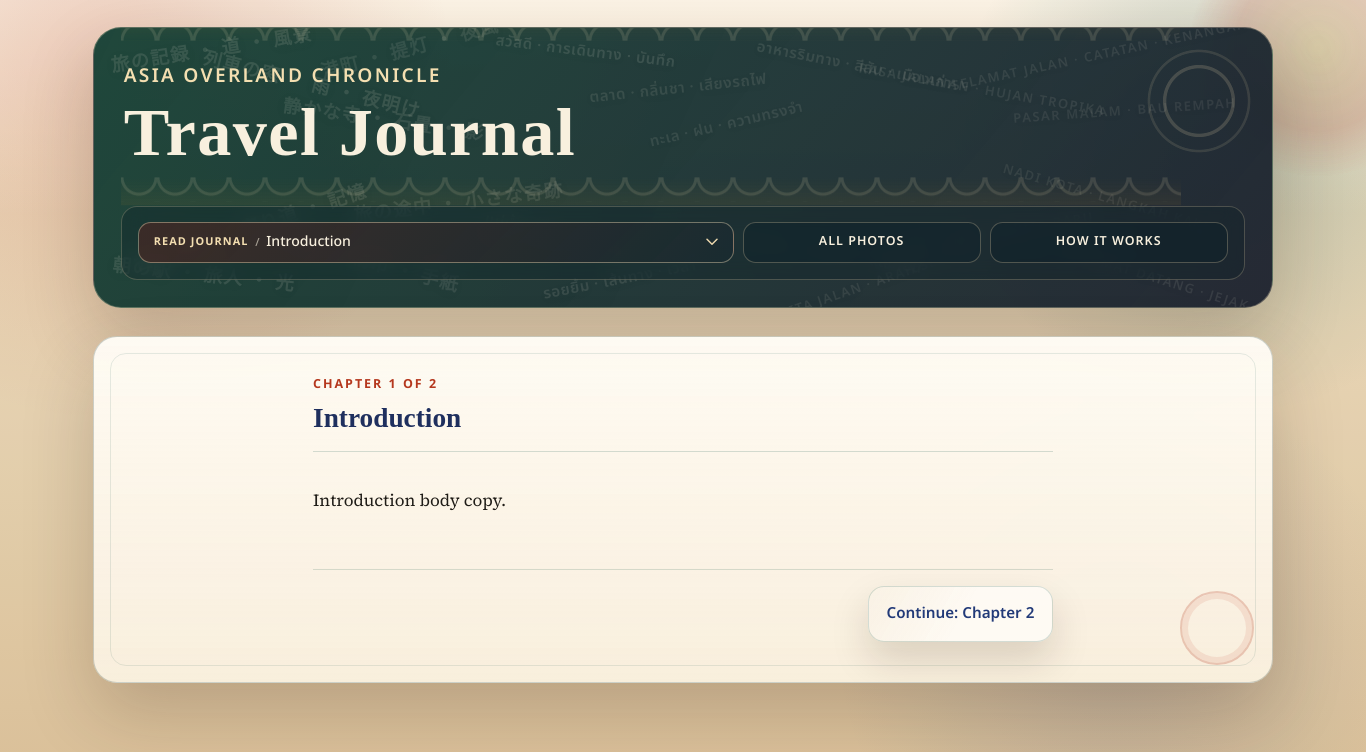
App › navigates to the about page when the hero button is clicked
Expected: the text "Chapter 1 of 2" is shown, [313,375,438,394]
What coordinates should you click on to do the following:
click the button "How It Works"
I would click on:
 (1109, 242)
Its box is [990,222,1228,263].
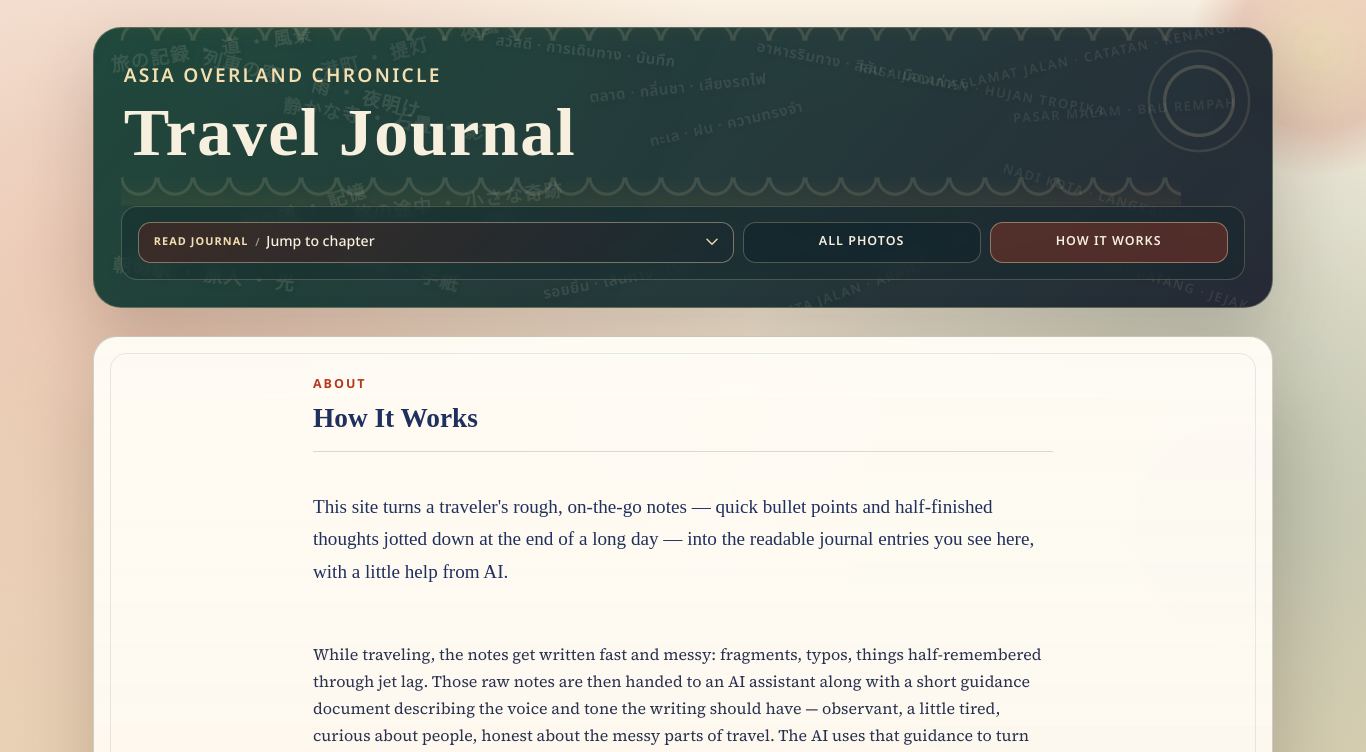
Result: the heading "How It Works" is shown at [313,403,478,433]
